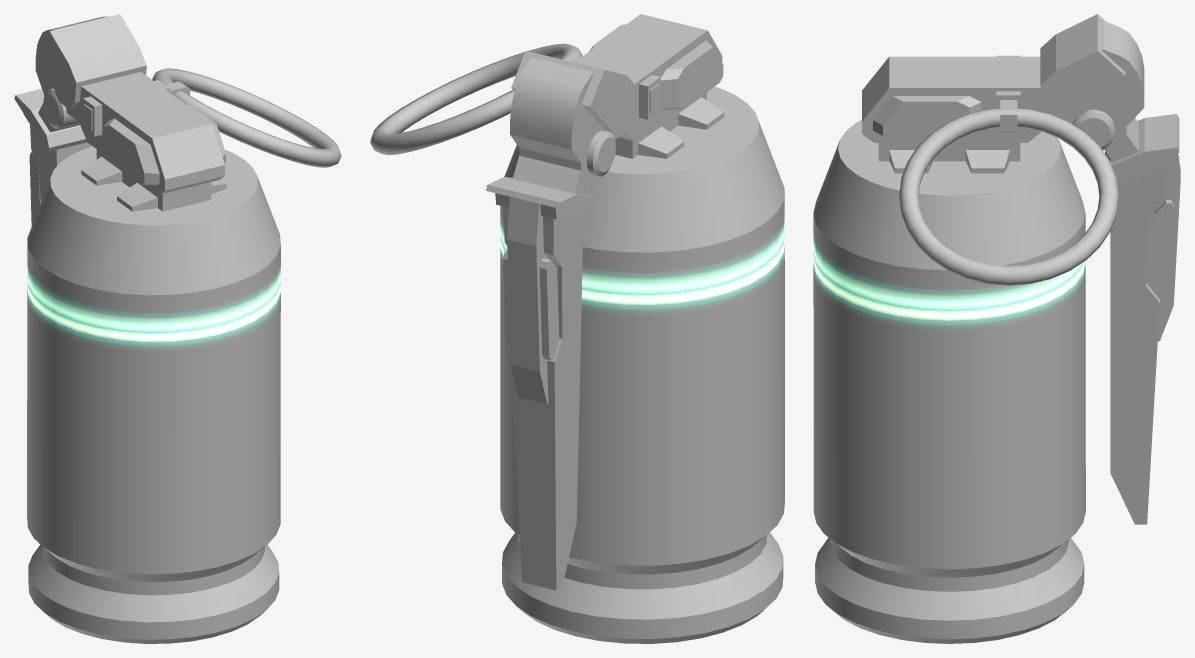
The model's file is ScifiPlasmaGrenadeStatic.fbx.
3 renders of one model, left to right at view 1: azimuth 30°, elevation 25°; view 2: azimuth 150°, elevation 25°; view 3: azimuth 270°, elevation 25°, orthographic. The views are drawn at different scales.
Visible parts, largest first — view 1: ScifiPlasmaGrenadeStatic; view 2: ScifiPlasmaGrenadeStatic; view 3: ScifiPlasmaGrenadeStatic.
Part boxes in pixels (<box>): ScifiPlasmaGrenadeStatic: <box>14,14,341,643</box>; ScifiPlasmaGrenadeStatic: <box>370,14,784,643</box>; ScifiPlasmaGrenadeStatic: <box>813,14,1180,643</box>.
Size of the model in its own units: 6.16 by 10.15 by 5.9.
